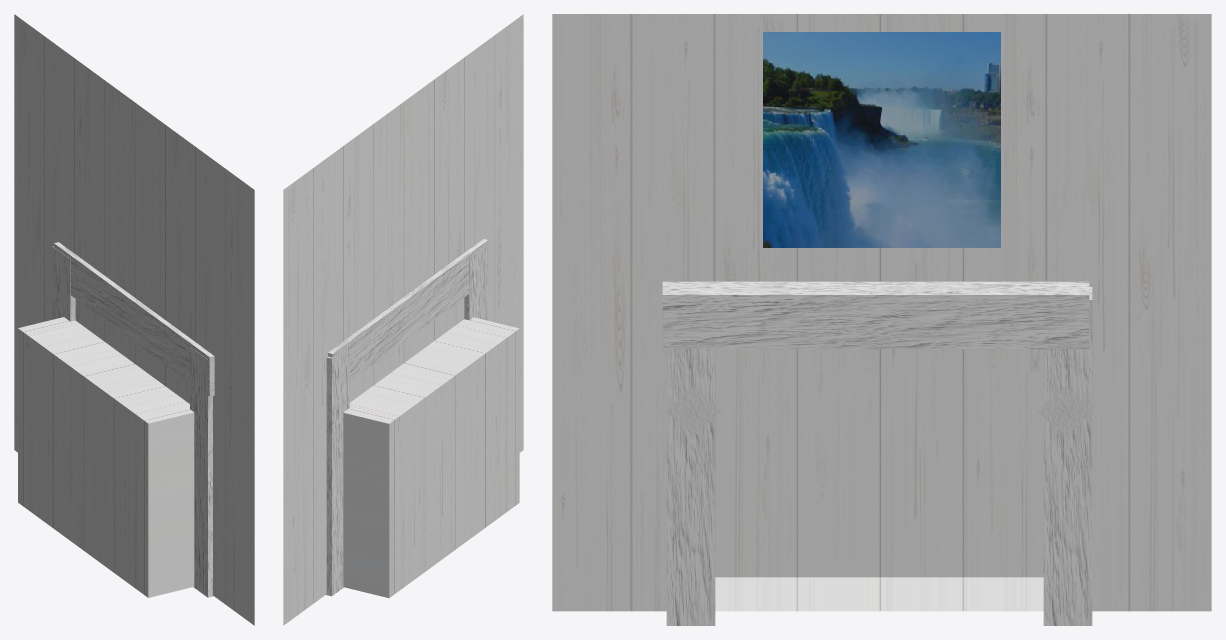
The model's file is chimenea.obj.
3 renders of one model, left to right at view 1: azimuth 30°, elevation 25°; view 2: azimuth 150°, elevation 25°; view 3: azimuth 270°, elevation 25°, orthographic. The views are drawn at different scales.
Parts seen in each view (by area): view 1: pPlane1, pCube1, pasted__pCube1 group, pasted__pasted__pCube1 pasted__group group1; view 2: pPlane1, pCube1, pasted__pasted__pCube1 pasted__group group1, pasted__pCube1 group; view 3: pPlane1, pPlane3, pCube1, pasted__pasted__pCube1 pasted__group group1, pasted__pCube1 group, pasted__pPlane2 group2, pPlane2.
Part boxes in pixels (bbox=[...]): pPlane1: bbox=[14, 14, 254, 625]; pCube1: bbox=[54, 242, 214, 396]; pasted__pCube1 group: bbox=[190, 347, 213, 597]; pasted__pasted__pCube1 pasted__group group1: bbox=[52, 246, 75, 321]; pPlane1: bbox=[283, 14, 523, 625]; pCube1: bbox=[328, 239, 488, 380]; pasted__pasted__pCube1 pasted__group group1: bbox=[326, 345, 349, 596]; pasted__pCube1 group: bbox=[464, 245, 487, 320]; pPlane1: bbox=[552, 14, 1211, 611]; pPlane3: bbox=[763, 32, 1000, 247]; pCube1: bbox=[662, 281, 1089, 349]; pasted__pasted__pCube1 pasted__group group1: bbox=[1043, 287, 1092, 625]; pasted__pCube1 group: bbox=[666, 349, 715, 625]; pasted__pPlane2 group2: bbox=[1038, 386, 1093, 436]; pPlane2: bbox=[666, 386, 721, 436].
Size of the model in its own units: 0.7202 by 4.15 by 4.14.
5 materials, 5 textured.
